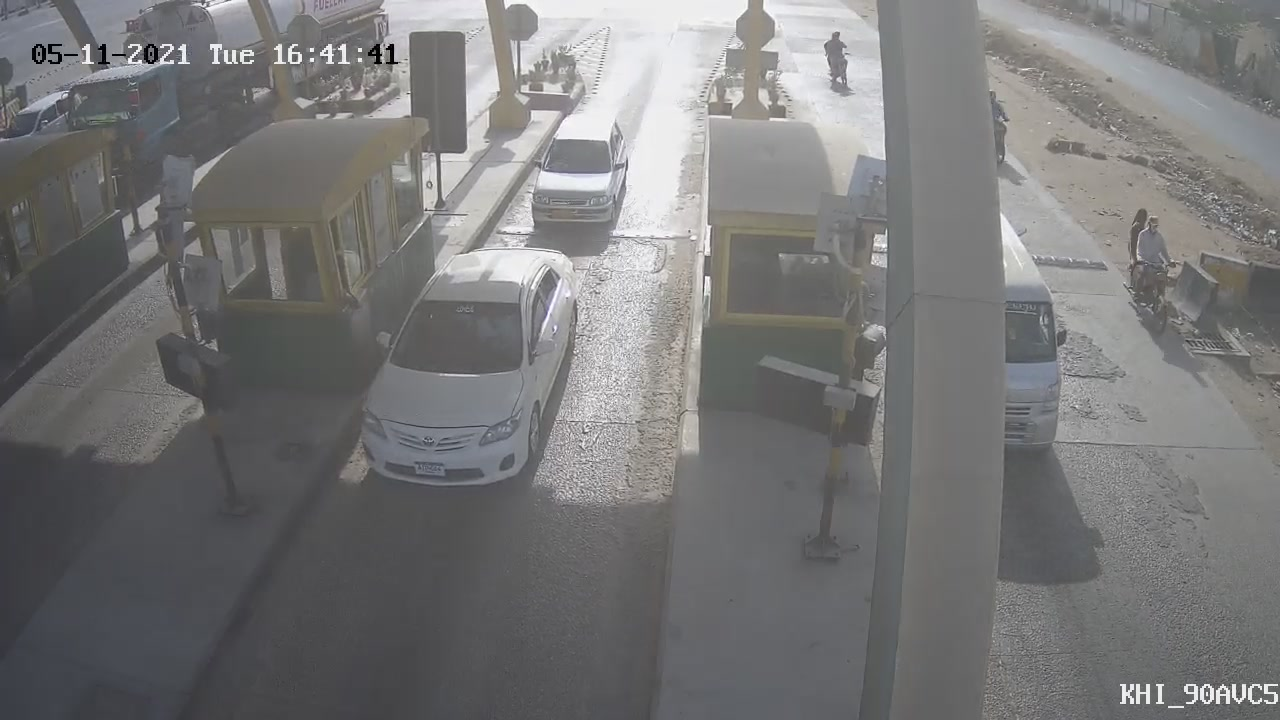F1: (340, 234, 594, 509), (520, 105, 642, 236)
